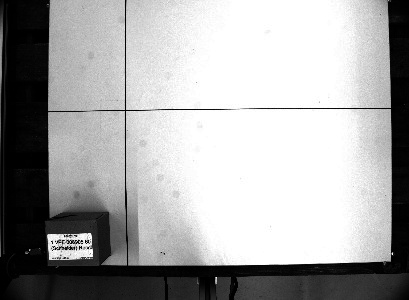b5: (42, 209, 114, 268)
